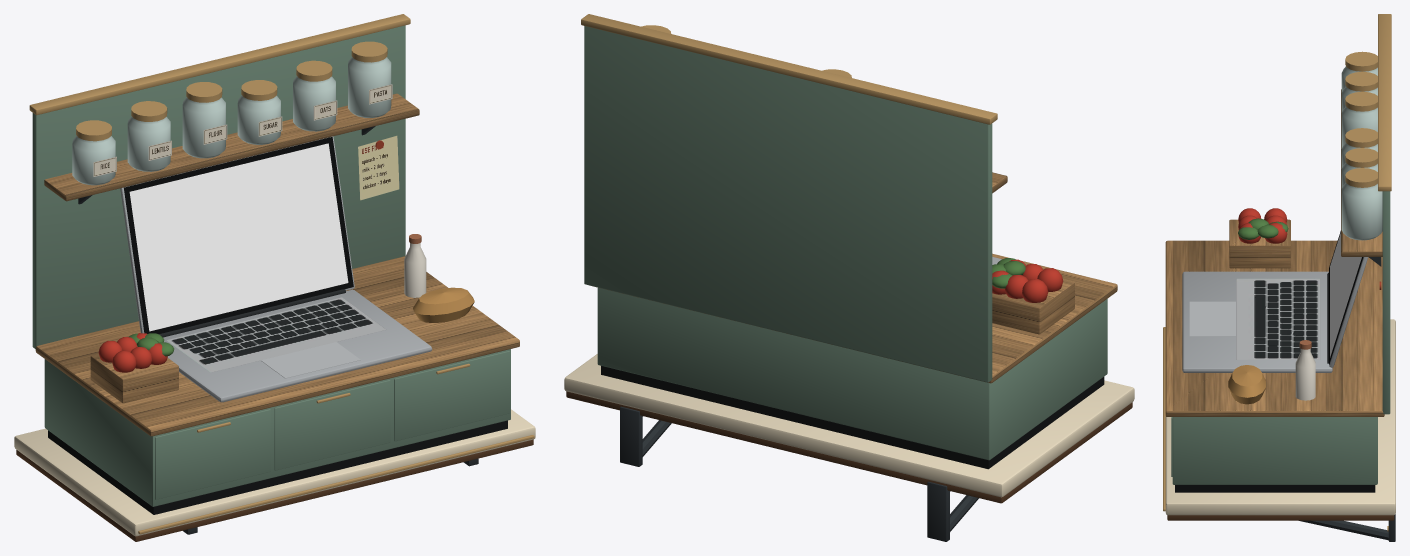
The model's file is set-lastbite.glb.
The picture shows the model from 3 angles, left to right: view 1: azimuth 30°, elevation 25°; view 2: azimuth 150°, elevation 25°; view 3: azimuth 270°, elevation 25°; orthographic projection. The views are drawn at different scales.
Parts seen in each view (by area): view 1: set__sage, mover_screen, set__wood, set__code_prints, set__jar_glass, set__brass, set__cream, set__laptop_alu, set__bezel, set__rubber_black, set__wood_dark, set__track (+4 smaller); view 2: set__sage, set__cream, set__wood, set__brass, set__rubber_black, set__wood_dark, set__steel_dark, set__tomato; view 3: set__wood, set__sage, set__cream, set__code_prints, set__laptop_alu, set__brass, set__jar_glass, mover_screen, set__track, set__rubber_black, set__wood_dark, set__bread (+5 smaller).
Part boxes in pixels (bbox=[...]): set__sage: bbox=[32, 25, 510, 506]; mover_screen: bbox=[129, 143, 348, 331]; set__wood: bbox=[35, 93, 519, 436]; set__code_prints: bbox=[93, 84, 399, 372]; set__jar_glass: bbox=[72, 57, 391, 185]; set__brass: bbox=[29, 14, 534, 534]; set__cream: bbox=[14, 409, 535, 536]; set__laptop_alu: bbox=[120, 136, 432, 402]; set__bezel: bbox=[124, 137, 353, 334]; set__rubber_black: bbox=[48, 420, 507, 514]; set__wood_dark: bbox=[16, 439, 533, 541]; set__track: bbox=[261, 342, 360, 378]; set__sage: bbox=[584, 26, 1107, 460]; set__cream: bbox=[564, 354, 1134, 497]; set__wood: bbox=[592, 172, 1117, 383]; set__brass: bbox=[581, 14, 997, 124]; set__rubber_black: bbox=[601, 366, 1104, 469]; set__wood_dark: bbox=[566, 391, 1132, 503]; set__steel_dark: bbox=[620, 406, 978, 541]; set__tomato: bbox=[992, 259, 1063, 302]; set__wood: bbox=[1165, 89, 1384, 416]; set__sage: bbox=[1171, 191, 1390, 484]; set__cream: bbox=[1165, 319, 1395, 515]; set__code_prints: bbox=[1236, 278, 1320, 359]; set__laptop_alu: bbox=[1182, 257, 1368, 372]; set__brass: bbox=[1163, 14, 1391, 531]; set__jar_glass: bbox=[1341, 66, 1382, 240]; mover_screen: bbox=[1330, 232, 1361, 357]; set__track: bbox=[1189, 301, 1235, 336]; set__rubber_black: bbox=[1175, 485, 1375, 492]; set__wood_dark: bbox=[1167, 515, 1394, 520]; set__bread: bbox=[1228, 365, 1265, 404].
Size of the model in its own units: 5.1 by 4.82 by 2.71.
26 materials, 2 textured.
